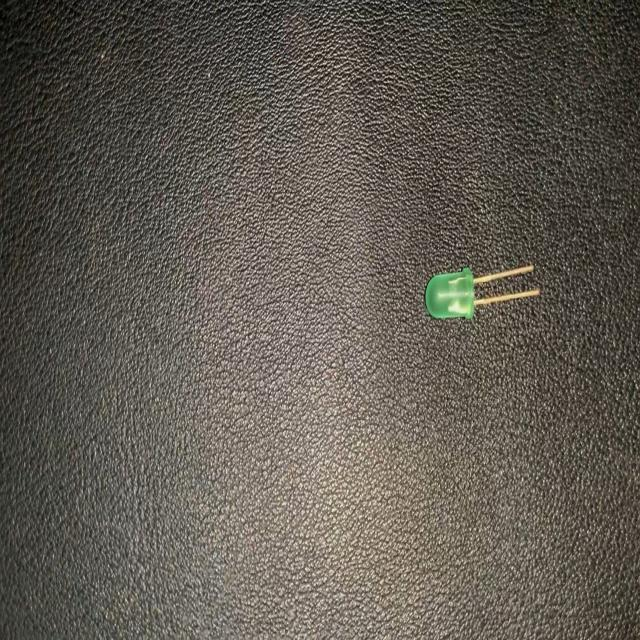LED: (423, 258, 541, 322)
